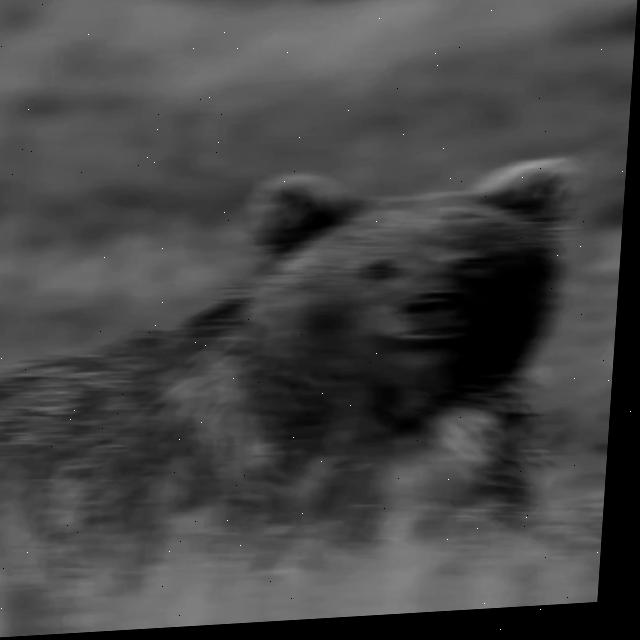Bear: (0, 153, 586, 575)
